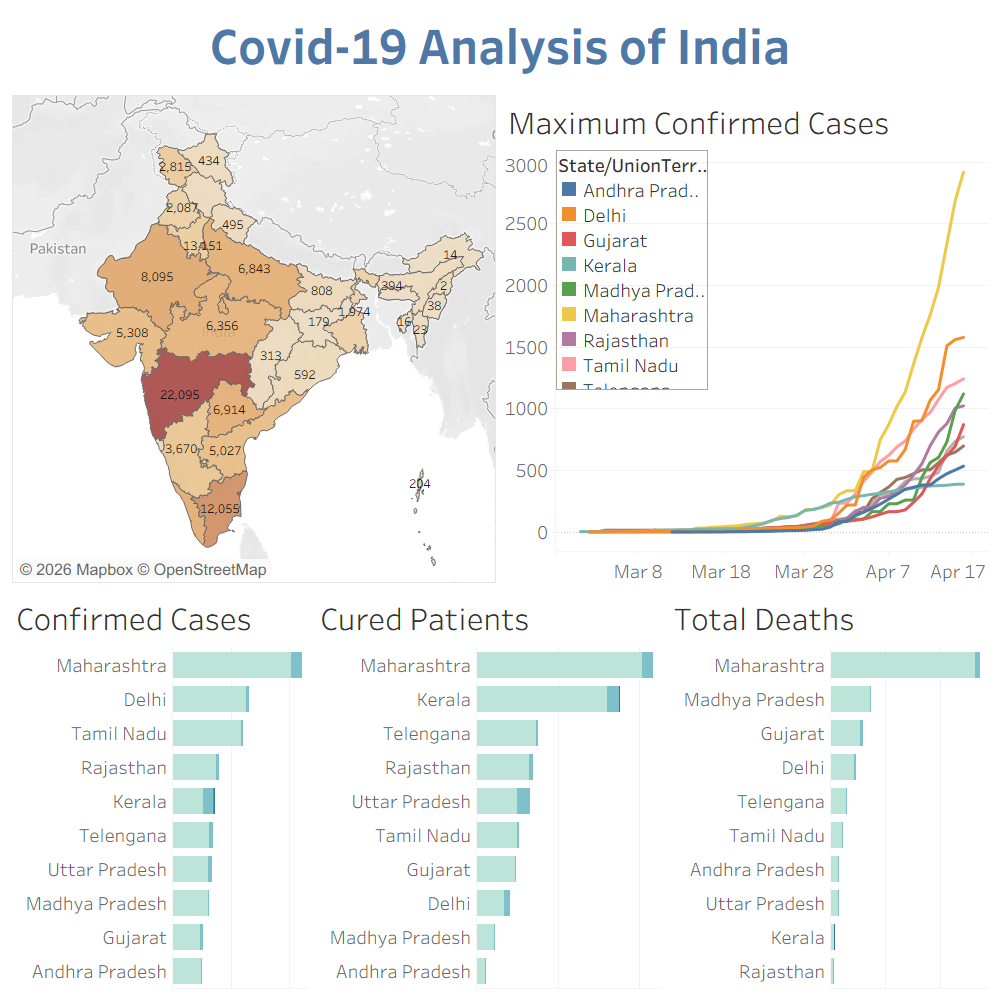

This screenshot's page, from the dashboard's own definition file:
{"tool":"tableau","page":{"name":"Dashboard 1","canvas":[1000,1000],"ordinal":0},"visuals":[{"type":"text","box":[8,8,984,83]},{"type":"worksheet","title":"map","mark":"Multipolygon","box":[8,91,492,496]},{"type":"worksheet","title":"max confirmed","mark":"Line","rows":["Confirmed"],"cols":["Date"],"box":[500,91,492,496]},{"type":"legend","title":"max confirmed","param":"[federated.0dyf1nw1e05zzd1f6ek8r1naaqfn].[none:State/UnionTerritory:nk]","box":[552,146,160,248]},{"type":"worksheet","title":"confirmed - top 10 states","mark":"Bar","rows":["State/UnionTerritory"],"cols":["Confirmed"],"box":[8,587,304,405]},{"type":"worksheet","title":"cured - top 10 states","mark":"Bar","rows":["State/UnionTerritory"],"cols":["Cured"],"box":[312,587,354,405]},{"type":"worksheet","title":"deaths - top 10 states","mark":"Bar","rows":["State/UnionTerritory"],"cols":["Deaths"],"box":[666,587,326,405]}]}

Visuals, with their boxes in screenshot pixels (x1, y1, x2, y2), scaled from the page's 1000x1000 canvas onto the 1000x1000 screenshot:
text: (8,8,992,91)
"map" worksheet (Multipolygon marks): (8,91,500,587)
"max confirmed" worksheet (Line marks): (500,91,992,587)
"max confirmed" legend: (552,146,712,394)
"confirmed - top 10 states" worksheet (Bar marks): (8,587,312,992)
"cured - top 10 states" worksheet (Bar marks): (312,587,666,992)
"deaths - top 10 states" worksheet (Bar marks): (666,587,992,992)
